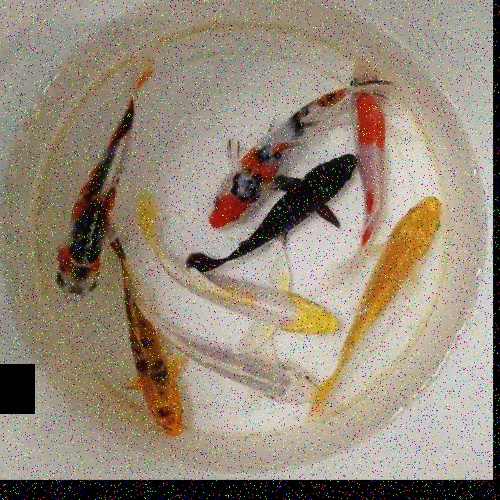fry: (348, 189, 453, 373), (48, 89, 131, 303), (147, 253, 345, 342), (193, 91, 299, 232), (168, 326, 330, 413), (110, 301, 192, 443), (341, 58, 405, 233), (269, 151, 363, 256)
